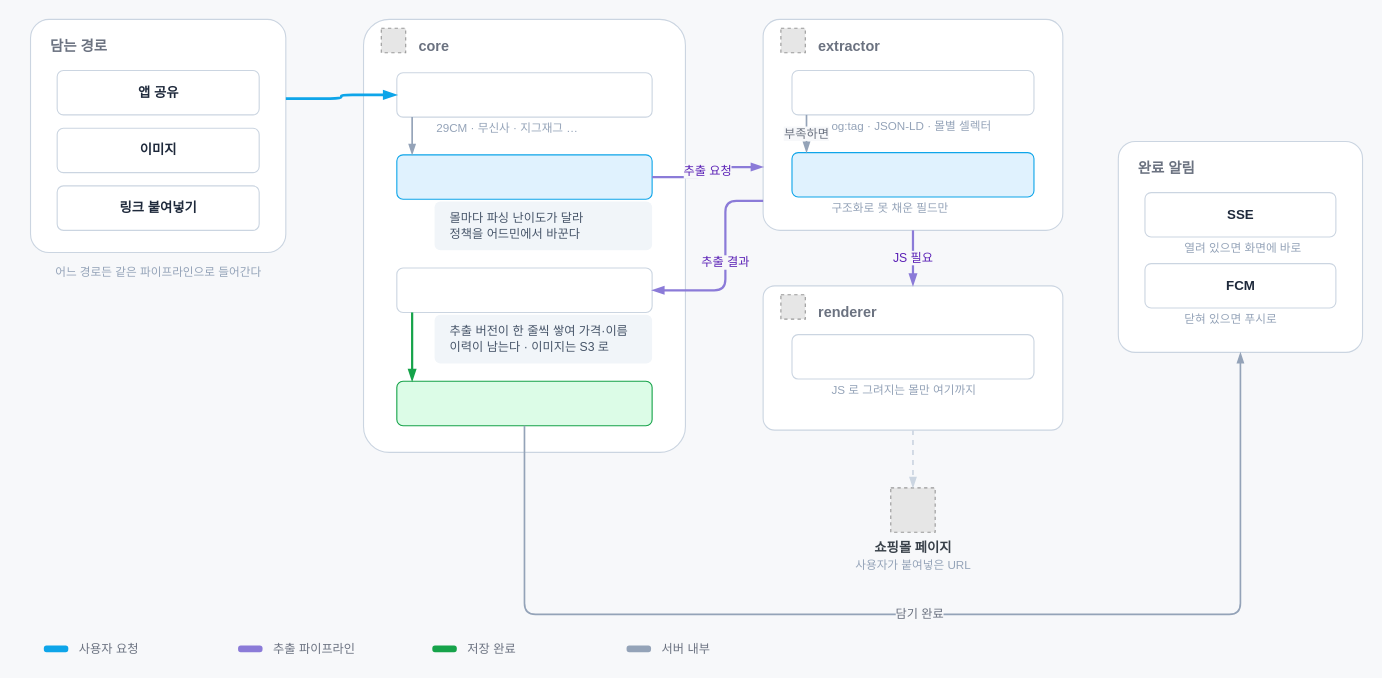
The diagram is 1382 pixels wide and 678 high, and some of its shapes have lost their labels. Grey dashed boxes stand in for pictures. Here are the shapes that lost their labels. From the top down, the centre of each, then its label:
(524,94): 출처 몰 판정
(912,92): 구조화 파싱
(524,176): 추출 경로 선택
(912,174): LLM 보완
(524,289): ItemSnapshot 저장
(912,356): 실제 Chrome 으로 렌더
(524,403): 위시에 연결
